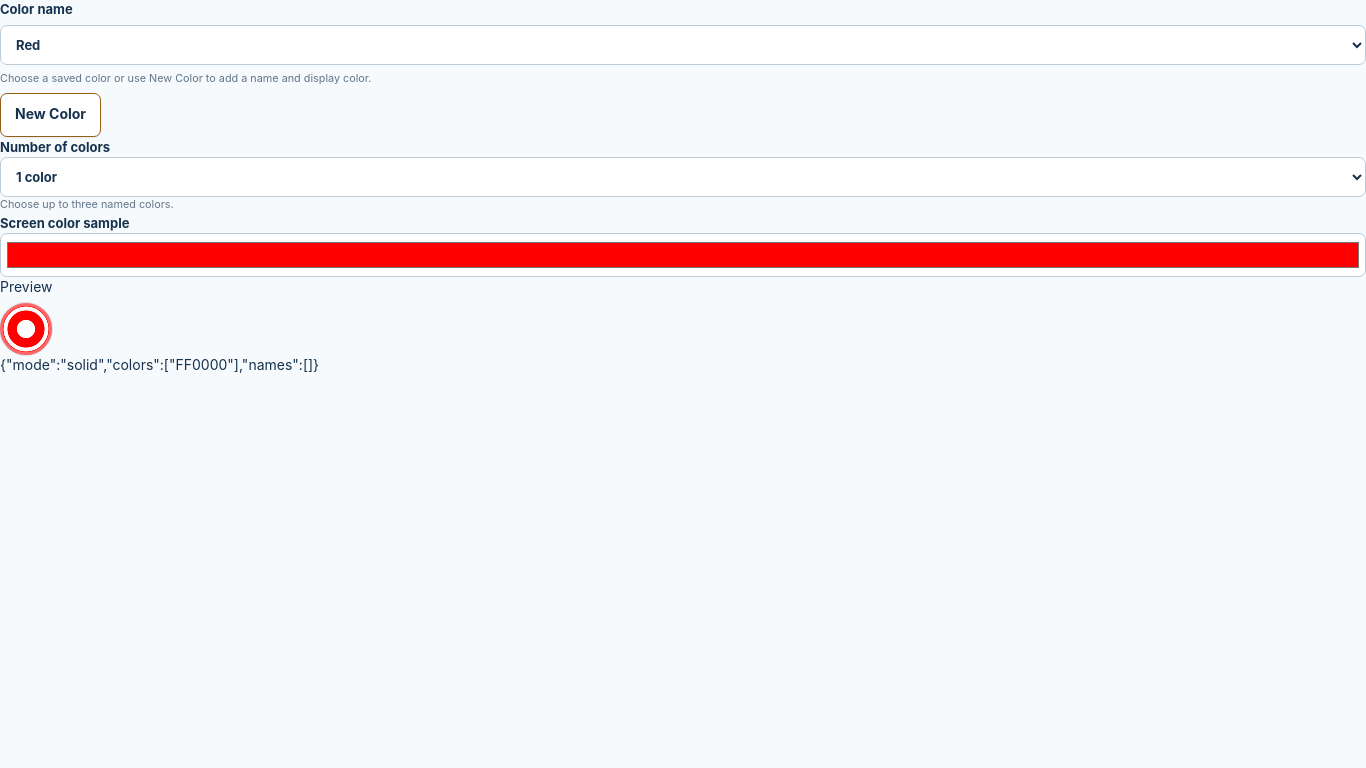
creates a component color without replacing the other component or leaving multicolor mode
Select "2 colors" in the dropdown labelled "Number of colors" at [683, 177], box x1=0 y1=157 x2=1365 y2=197
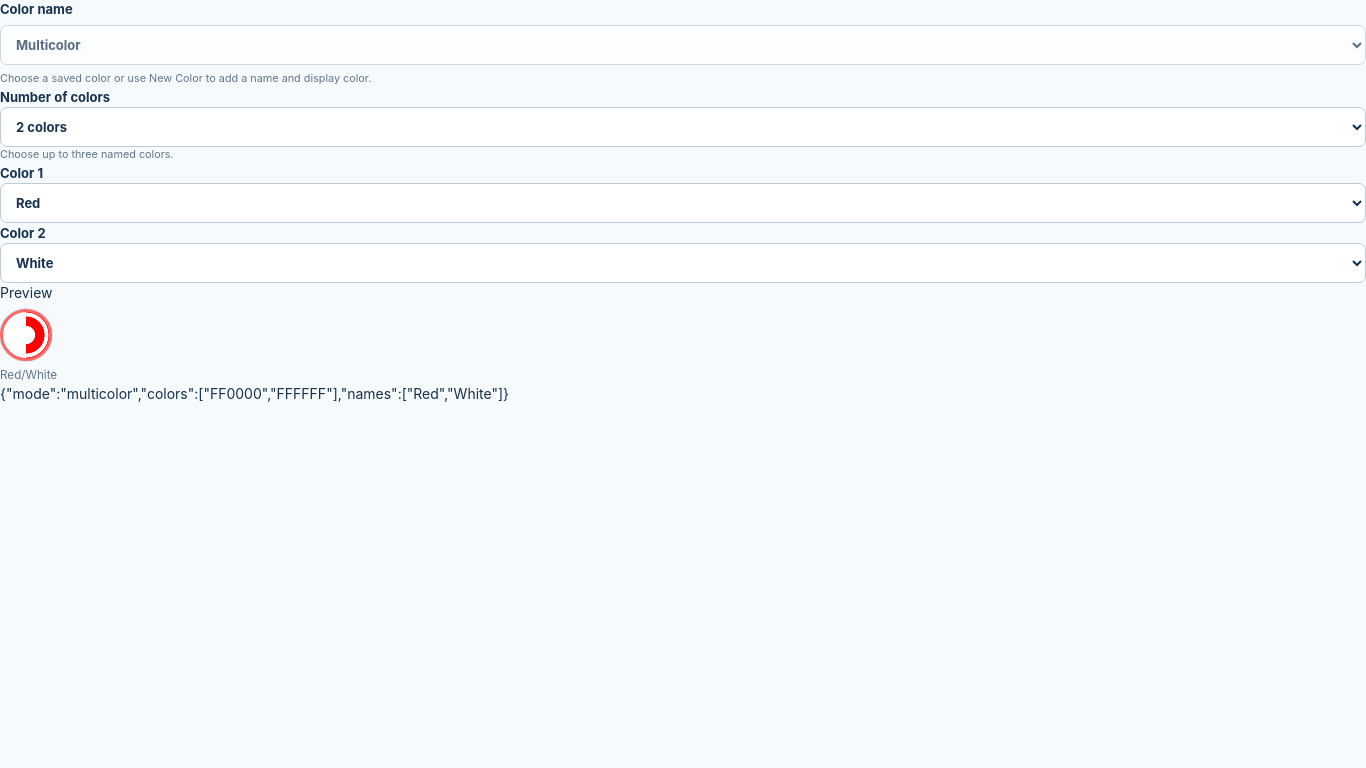
Select "New Color" in the dropdown labelled "Color 2" at [683, 263], box x1=0 y1=243 x2=1365 y2=283
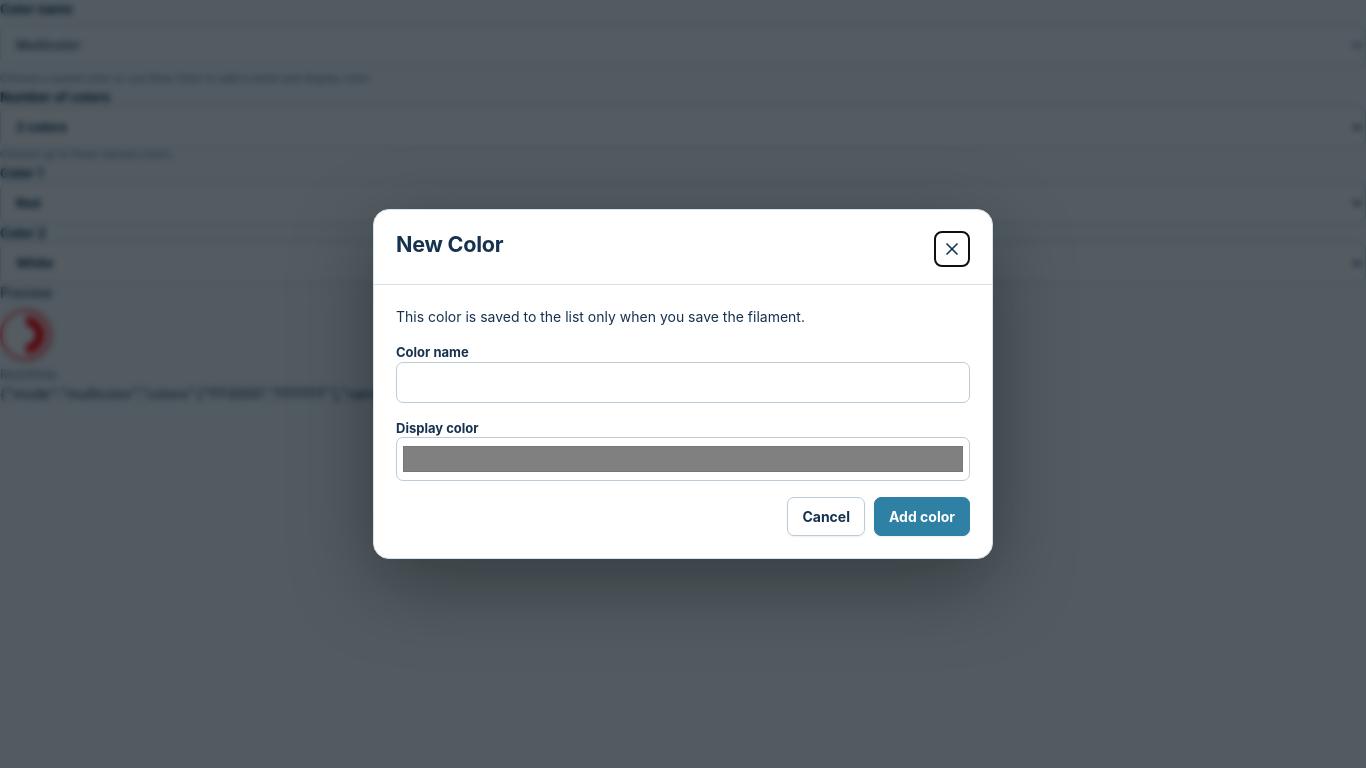
Type "Black" into the field labelled "Color name" at [683, 382], box x1=396 y1=362 x2=970 y2=402
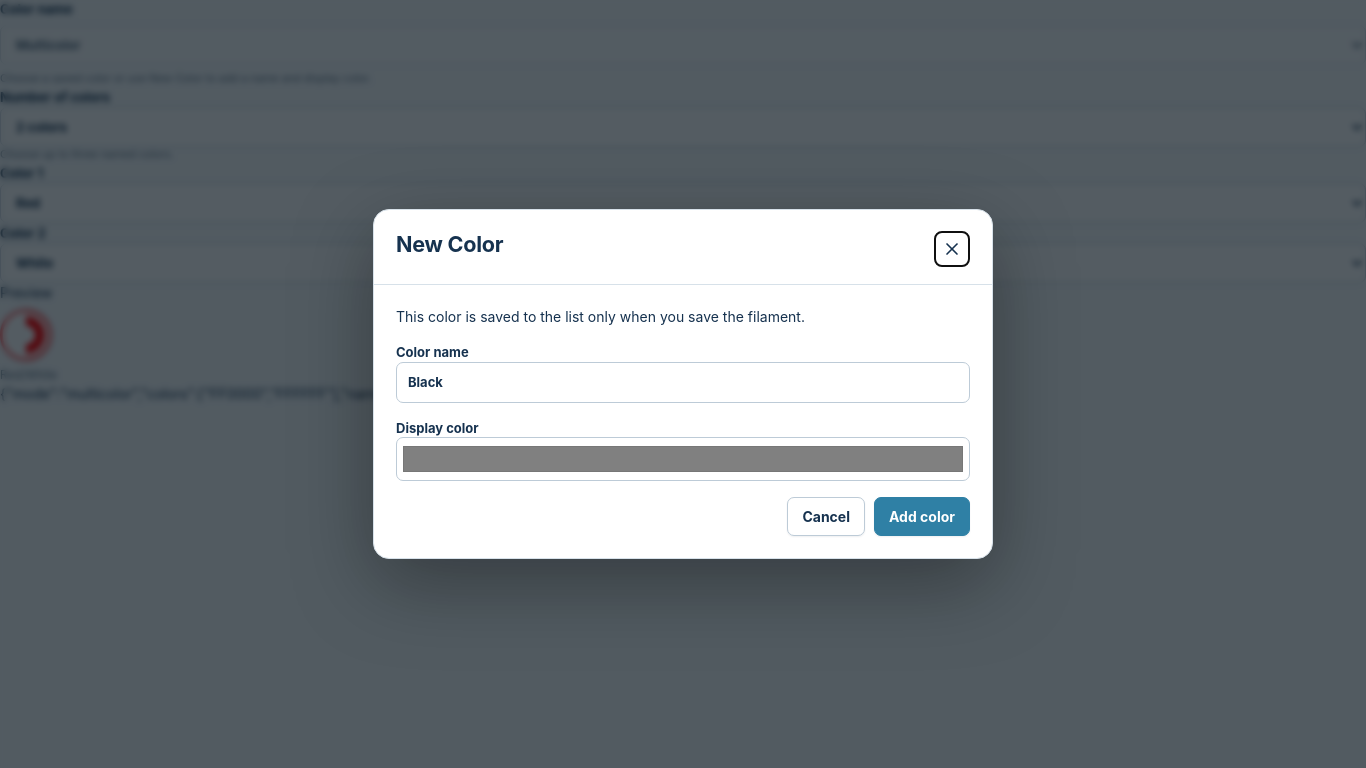
Type "#000000" into the colour field labelled "Display color" at [683, 459], box x1=396 y1=437 x2=970 y2=481
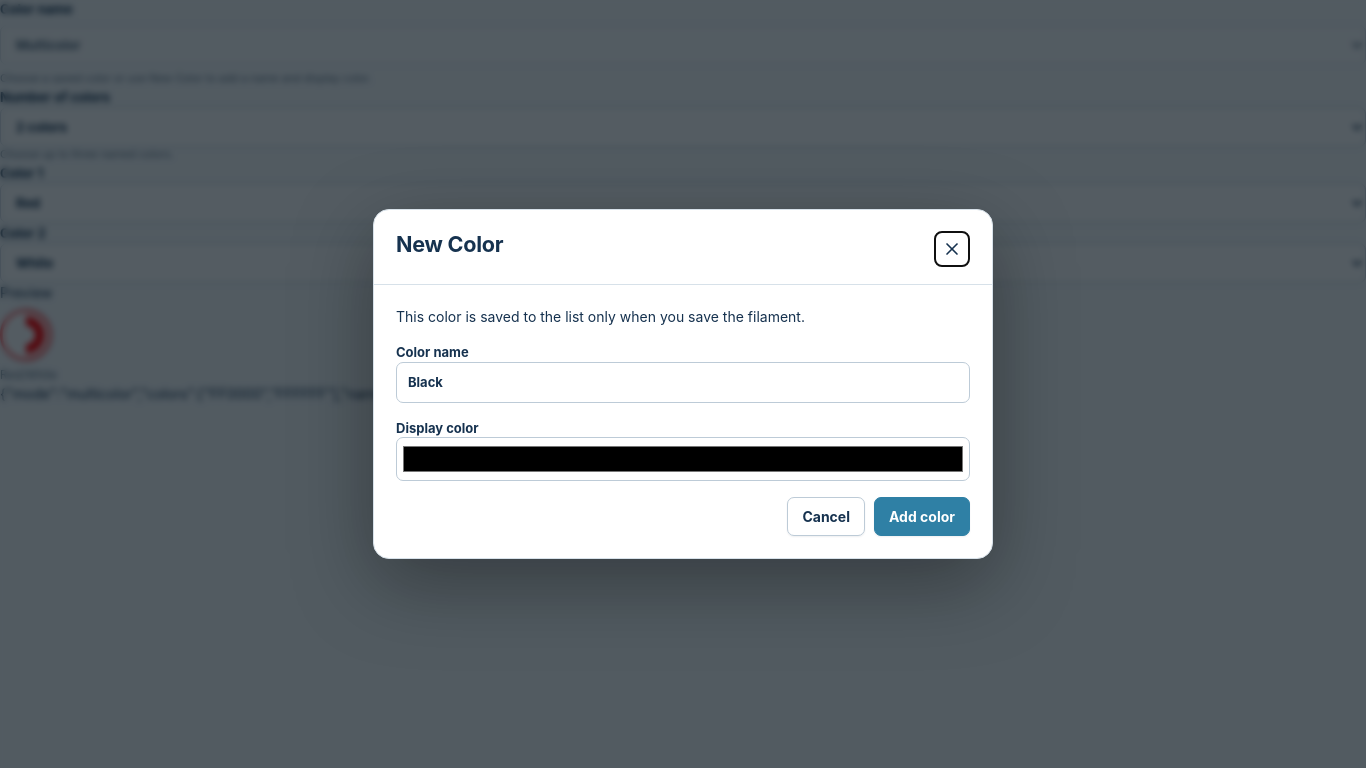
Click the button "Add color" at [922, 517], box x1=874 y1=497 x2=970 y2=536
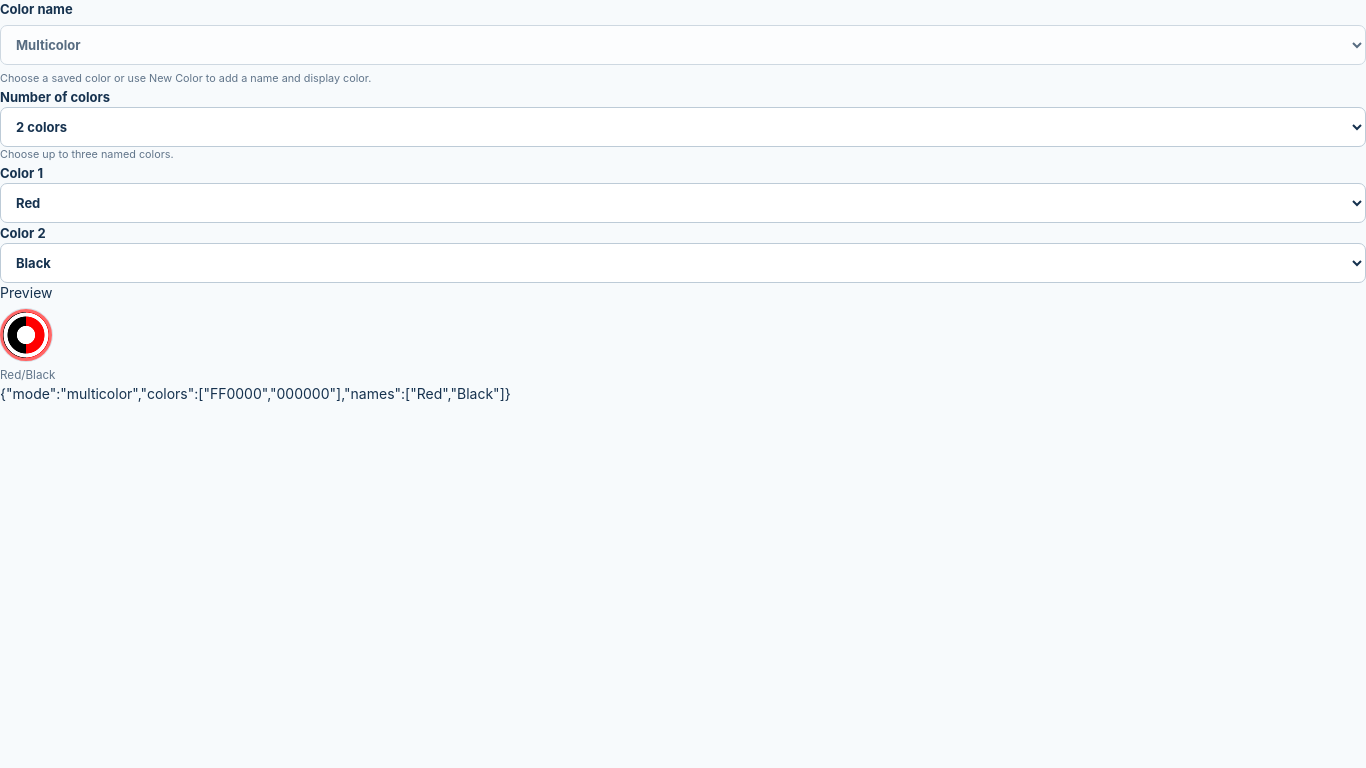
Check: the dialog is gone
Check: the text "\"mode\":\"multicolor\",\"colors\":[\"FF0000\",\"000000\"],\"names\":[\"Red\",\"Black\"]" is shown, box x1=0 y1=385 x2=511 y2=402
